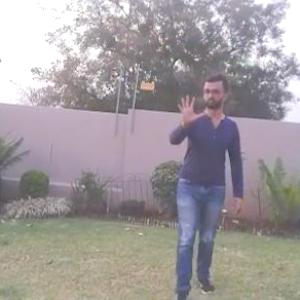follow_hand: (174, 92, 205, 126)
